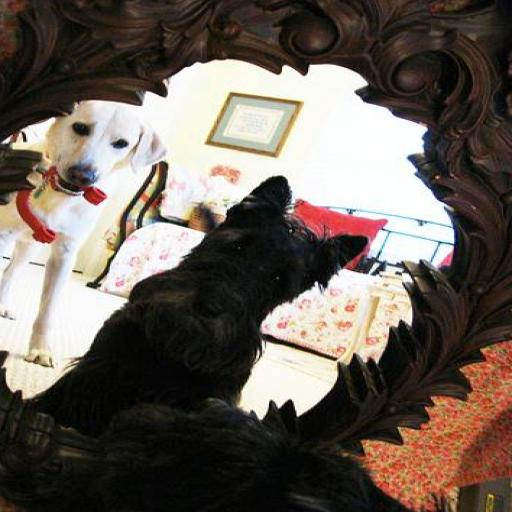dog_face: (46, 103, 174, 207)
